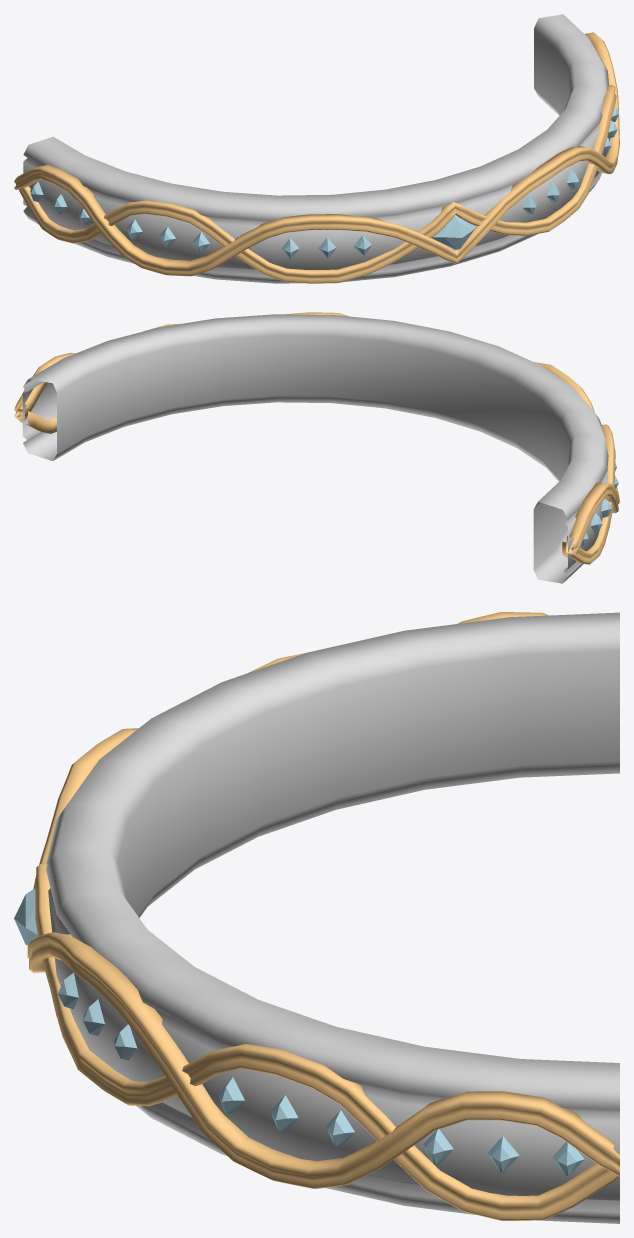
The model's file is DetailedRing1.fbx.
3 renders of one model, top to bottom at view 1: azimuth 30°, elevation 25°; view 2: azimuth 150°, elevation 25°; view 3: azimuth 270°, elevation 25°, orthographic. The views are drawn at different scales.
Parts seen in each view (by area): view 1: Half1; view 2: Half1; view 3: Half1.
Part boxes in pixels (x1=…): Half1: x1=14, y1=14, x2=619, y2=283; Half1: x1=14, y1=312, x2=619, y2=583; Half1: x1=14, y1=612, x2=619, y2=1223.
Size of the model in its own units: 3.98 by 0.5268 by 2.03.
